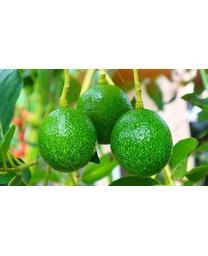avocado: (110, 108, 174, 174), (37, 106, 97, 172), (74, 85, 134, 146)
